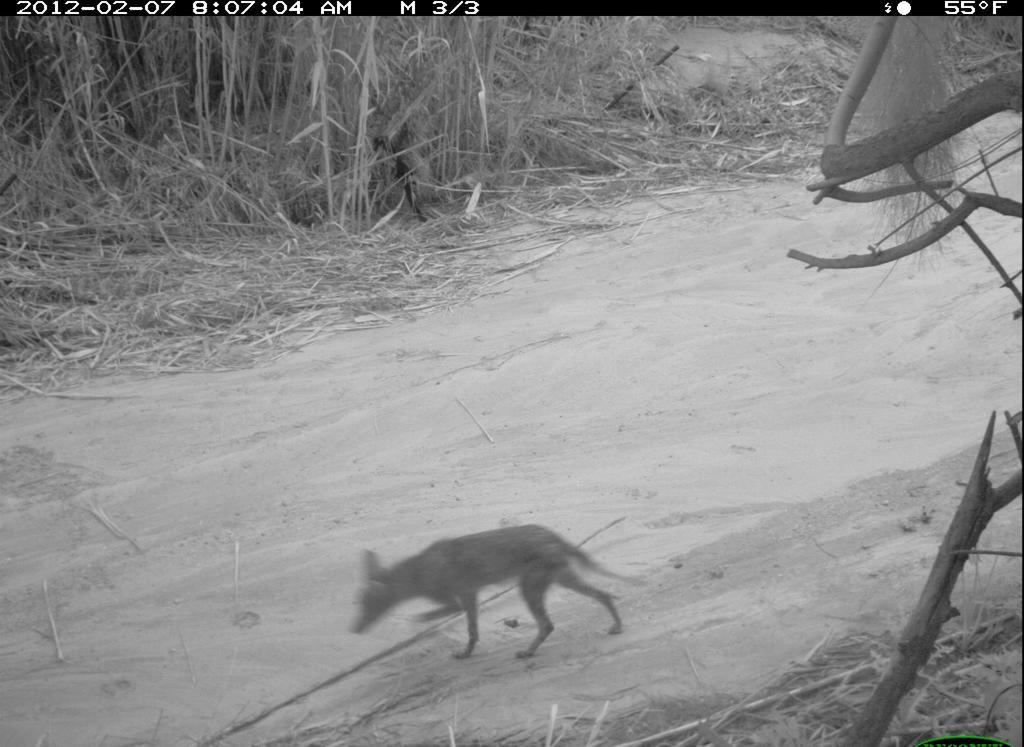coyote: (353, 520, 648, 671)
